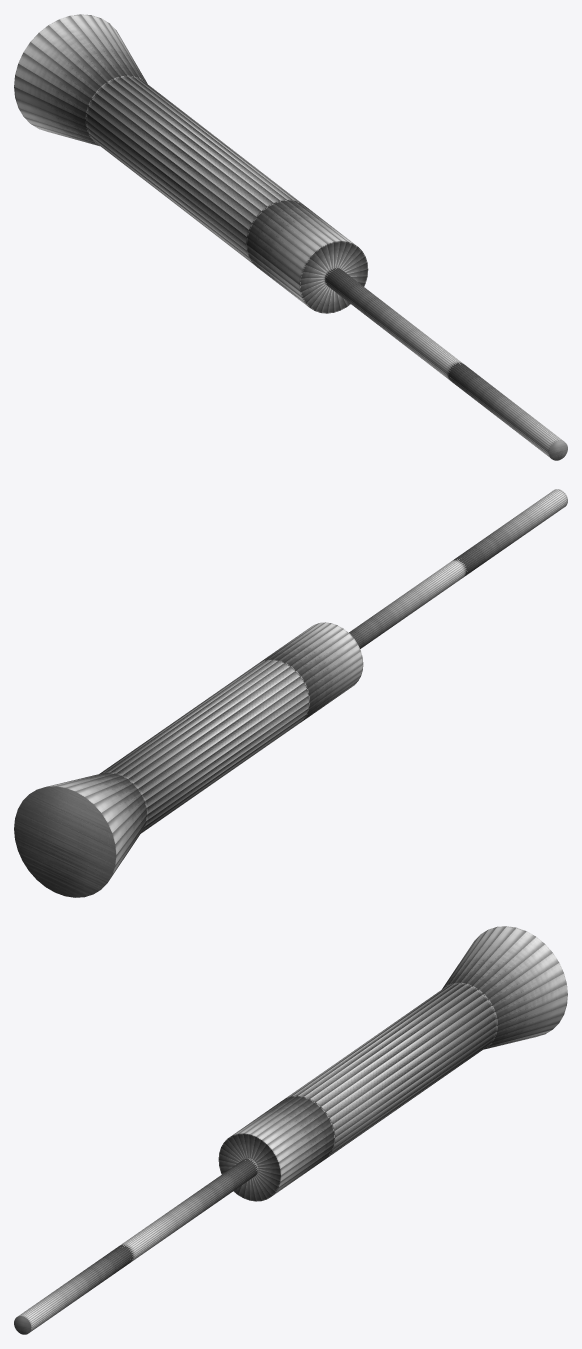
File: plunger.obj
3 views of the same model, one above another, from view 1: azimuth 30°, elevation 25°; view 2: azimuth 150°, elevation 25°; view 3: azimuth 330°, elevation 25° (orthographic). The views are drawn at different scales.
Visible parts, largest first — view 1: Cylinder.002; view 2: Cylinder.002; view 3: Cylinder.002.
Boxes of the visible parts, <box> form: Cylinder.002: <box>14,14,567,460</box>; Cylinder.002: <box>14,489,567,897</box>; Cylinder.002: <box>14,926,567,1334</box>.
Bounding box in the file's own units: 0.4459 × 0.446 × 3.55.
